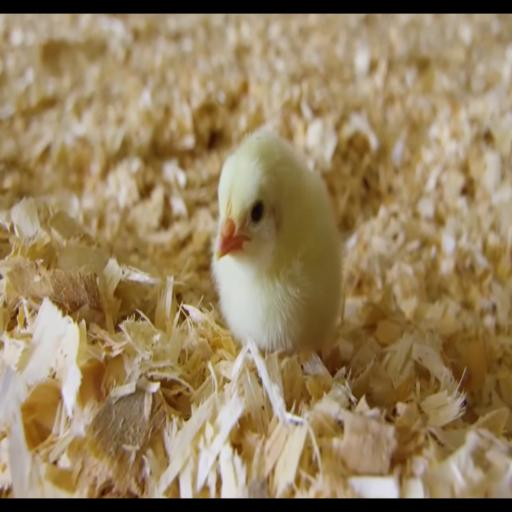chick: (212, 130, 342, 352)
